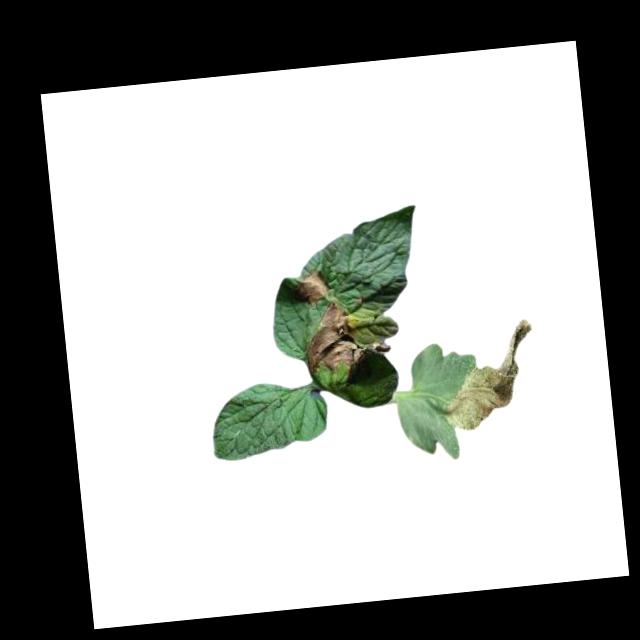Late_blight: (432, 316, 543, 433), (301, 296, 395, 381), (293, 266, 335, 305)
healthy: (207, 378, 334, 471)
